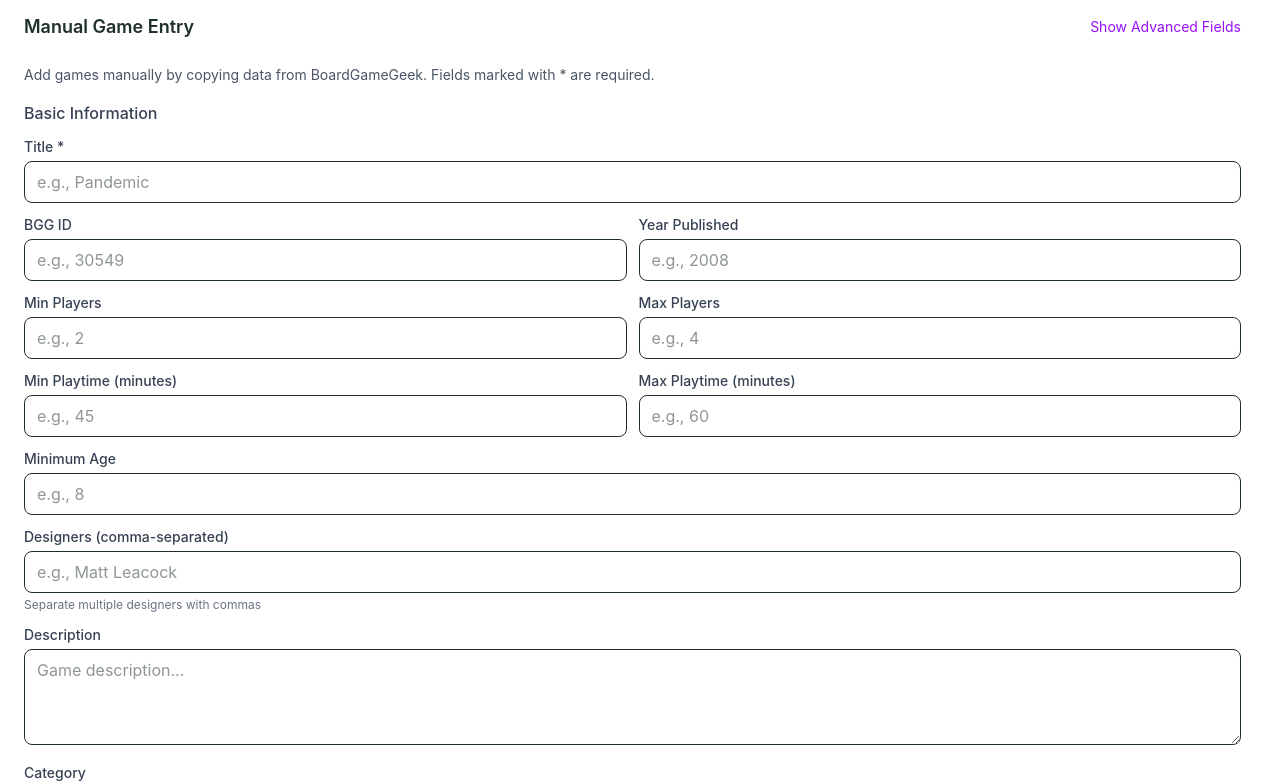
Scenario: ManualGameEntryPanel › Form Validation › add button is enabled when title has value
Step 1. Type "Test Game" into the field with placeholder "e.g., Pandemic" → [632, 182], box [24, 161, 1241, 203]
(page scrolled)
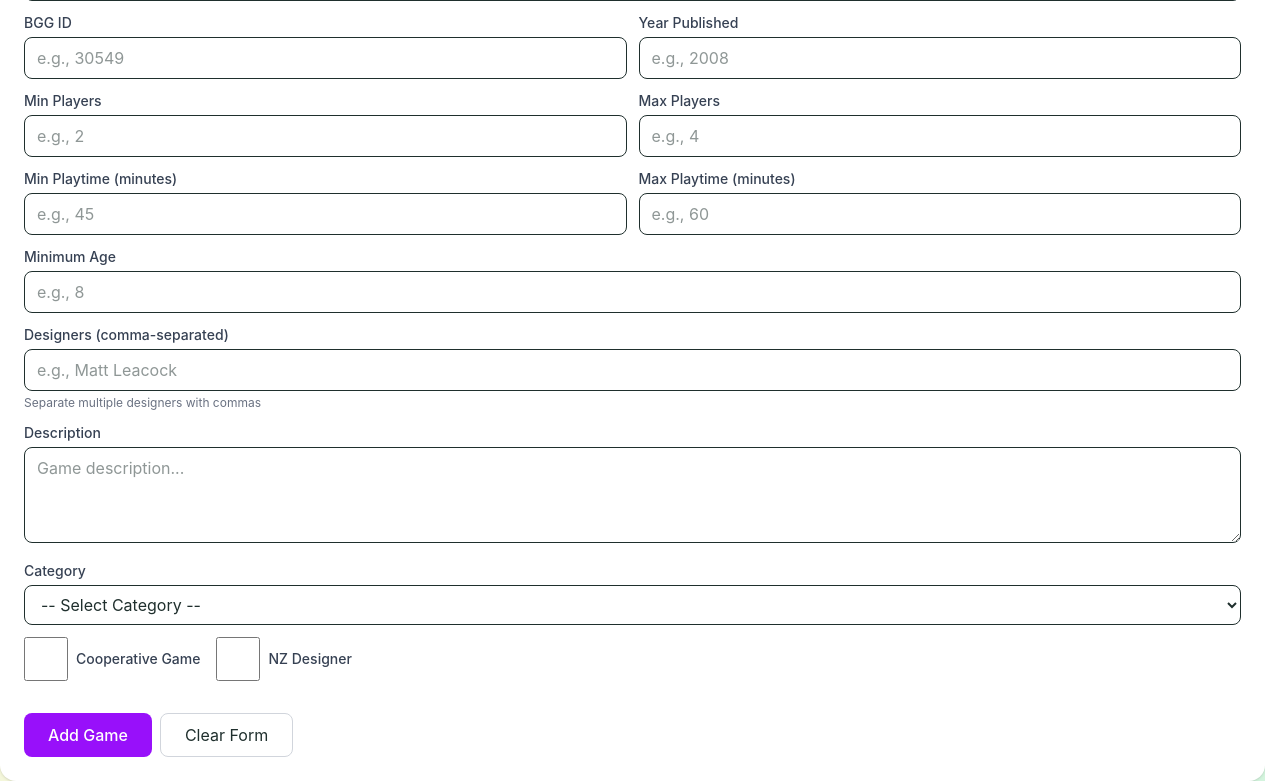
Now the button "Add Game" is enabled, box [24, 713, 152, 757]
